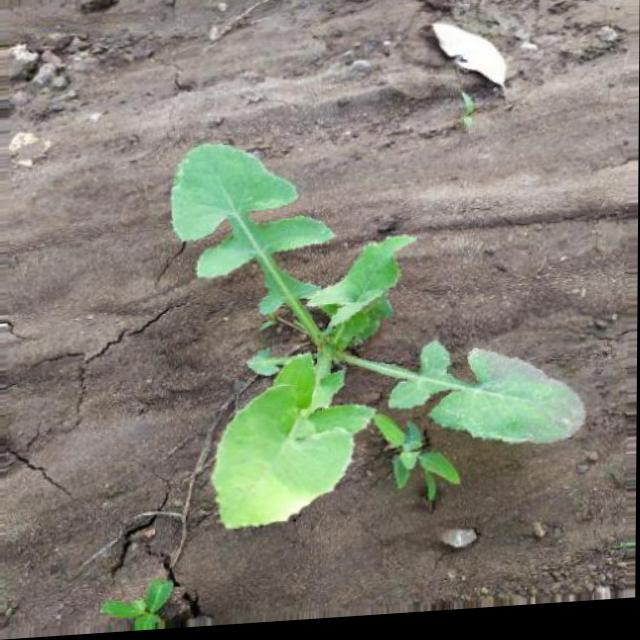weed: (163, 94, 592, 540)
